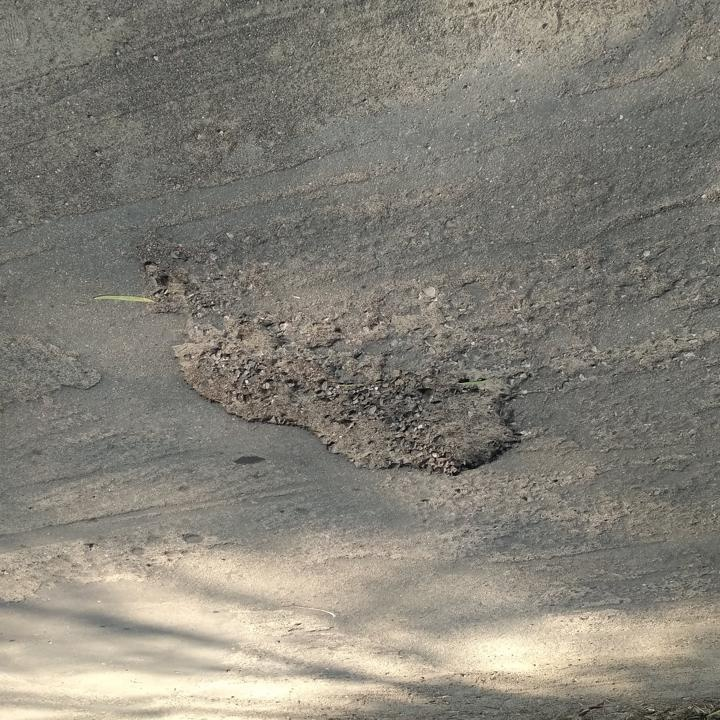pothole: (167, 316, 531, 481)
